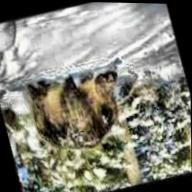boar: (0, 36, 157, 169)
